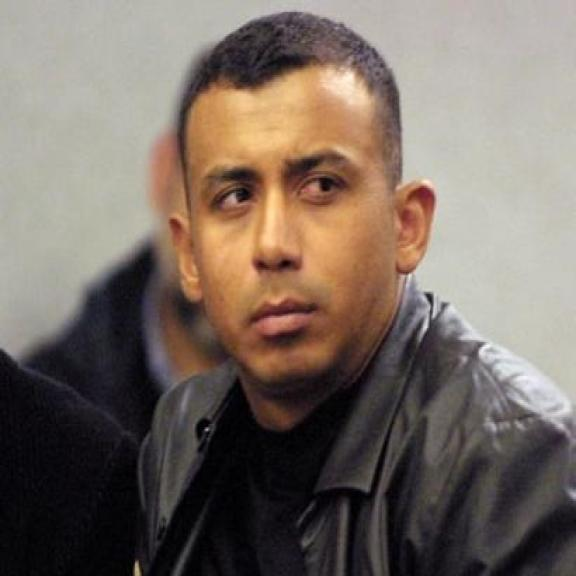face: (169, 74, 439, 389)
